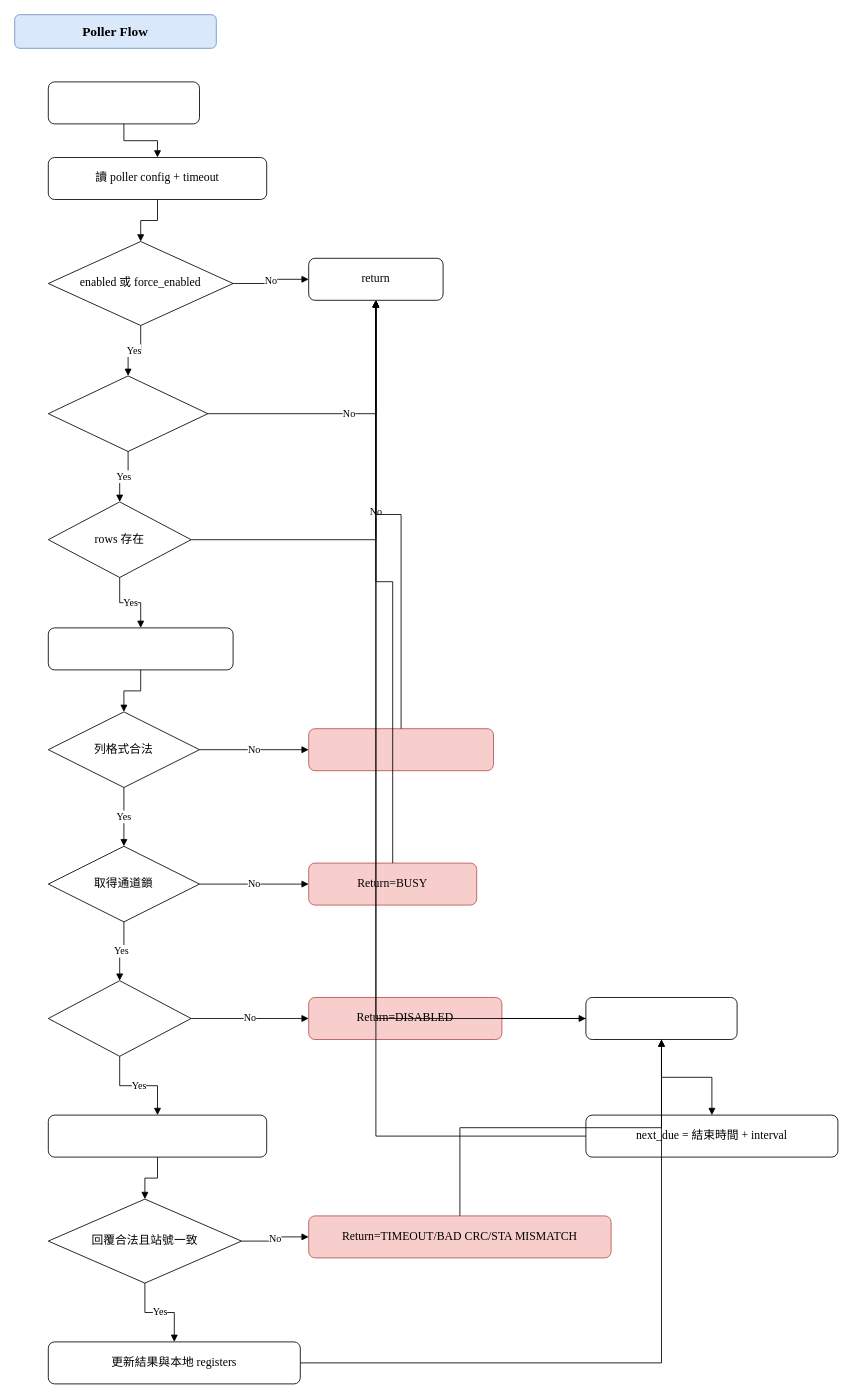
This 853x1399 diagram has some shape labels left out. The centre of each missing label's shape, as x and y in pixels:
"poller.tick" belongs at (x=123, y=102).
"Return=BAD ROW" belongs at (x=401, y=749).
"到達 next_due" belongs at (x=127, y=413).
"取下一列並解析" belongs at (x=140, y=648).
"組 RTU/ASCII + 收回覆" belongs at (x=157, y=1135).
"通道啟用" belongs at (x=119, y=1018).
"釋放鎖" belongs at (x=661, y=1018).
